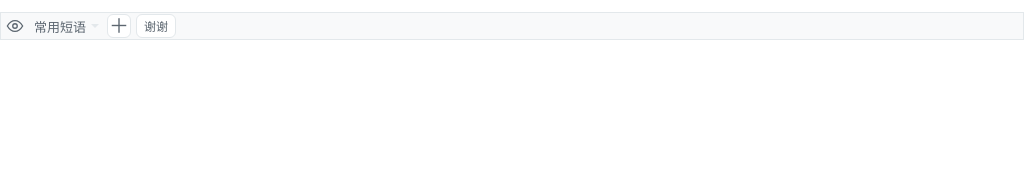
Test: 底部短语整栏隐藏 › 保存失败时保留短语栏并允许重试，快速连点不重复保存
This screenshot has width=1024, height=172.
Step 1. Click the button named "隐藏短语" → (15, 26), box [4, 14, 26, 38]
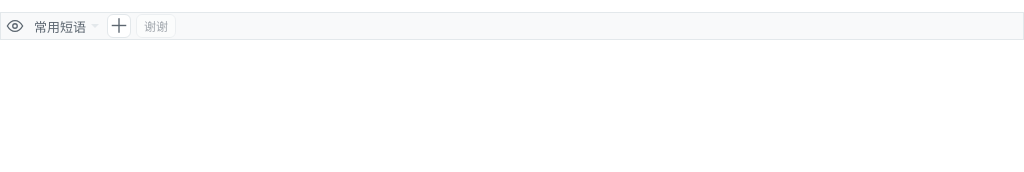
Step 2. Click the button named "隐藏短语" → (15, 26), box [4, 14, 26, 38]
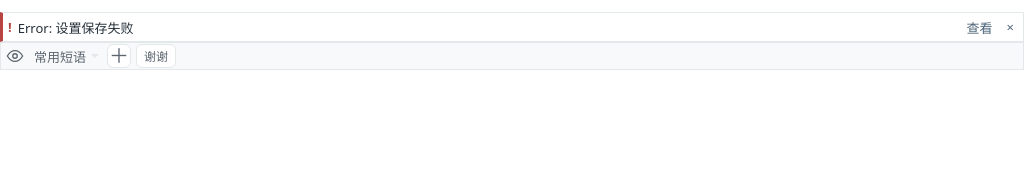
Expected: the option "谢谢" is shown, [136, 44, 176, 68]
Expected: the message shows "设置保存失败", [18, 18, 134, 36]
Expected: the button named "隐藏短语" is enabled, [4, 44, 26, 68]
